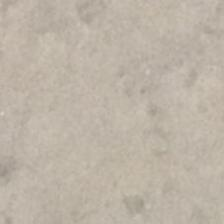Non_Crack: (24, 19, 204, 185)
